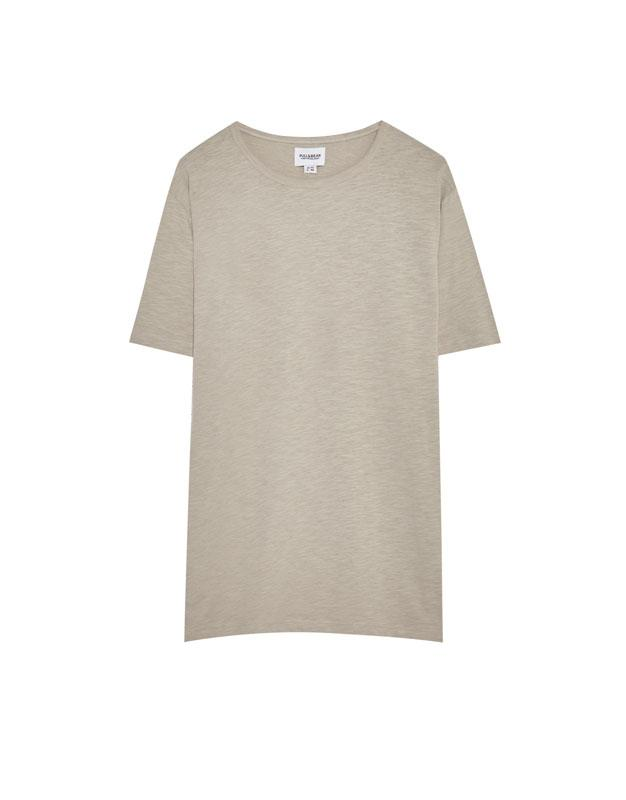teeshirt: (100, 111, 518, 695)
